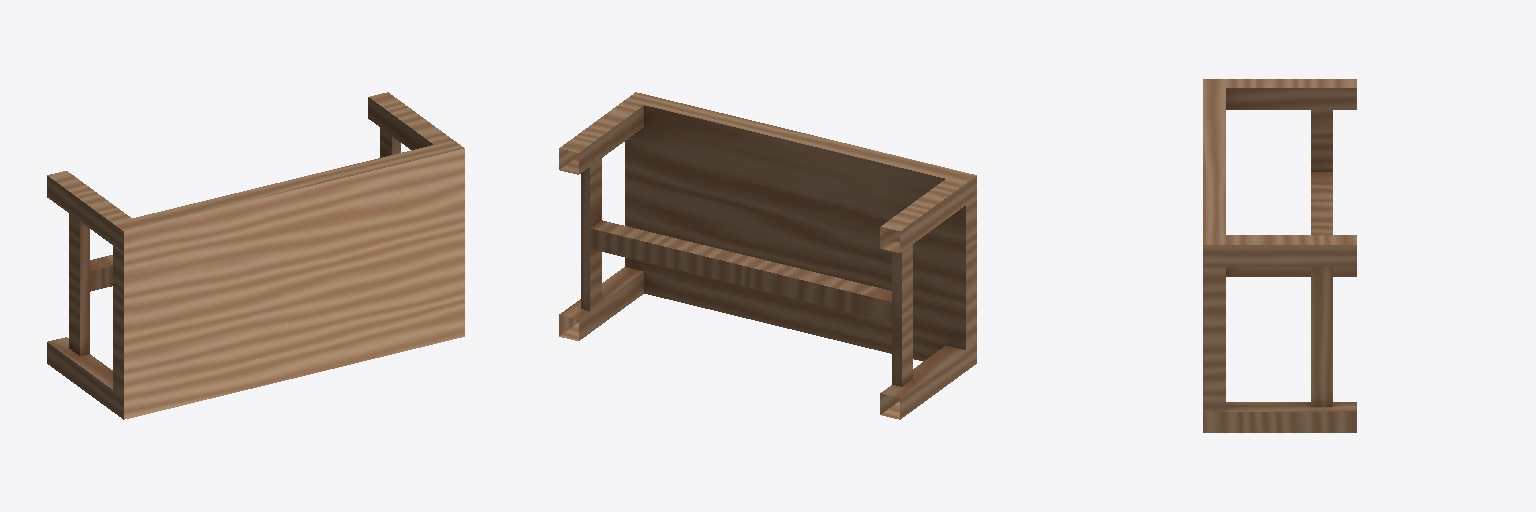
3 renders of one model, left to right at view 1: azimuth 30°, elevation 25°; view 2: azimuth 150°, elevation 25°; view 3: azimuth 270°, elevation 25°, orthographic.
Parts seen in each view (by area): view 1: table; view 2: table; view 3: table.
Boxes of the visible parts, <box> form: table: <box>47,92,464,419</box>; table: <box>559,92,976,419</box>; table: <box>1203,79,1356,432</box>.
Bounding box in the file's own units: 1.74 × 0.9177 × 0.6785.
1 materials, 1 textured.